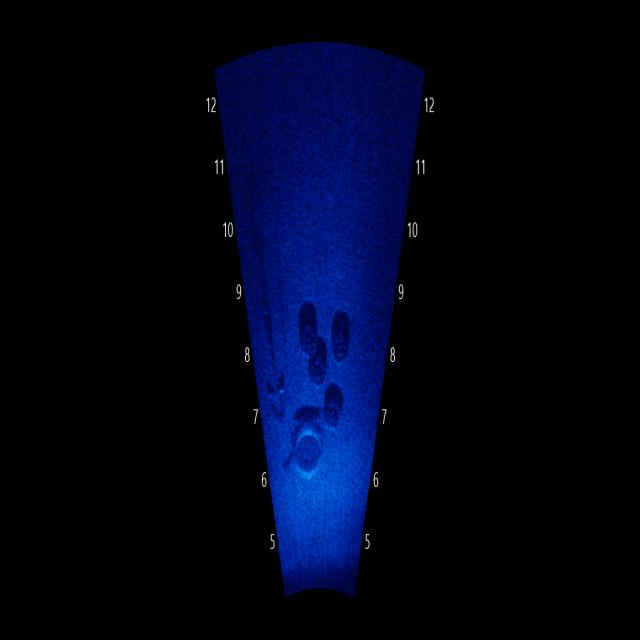circle: (291, 414, 324, 491), (317, 384, 350, 436), (297, 316, 321, 370)
